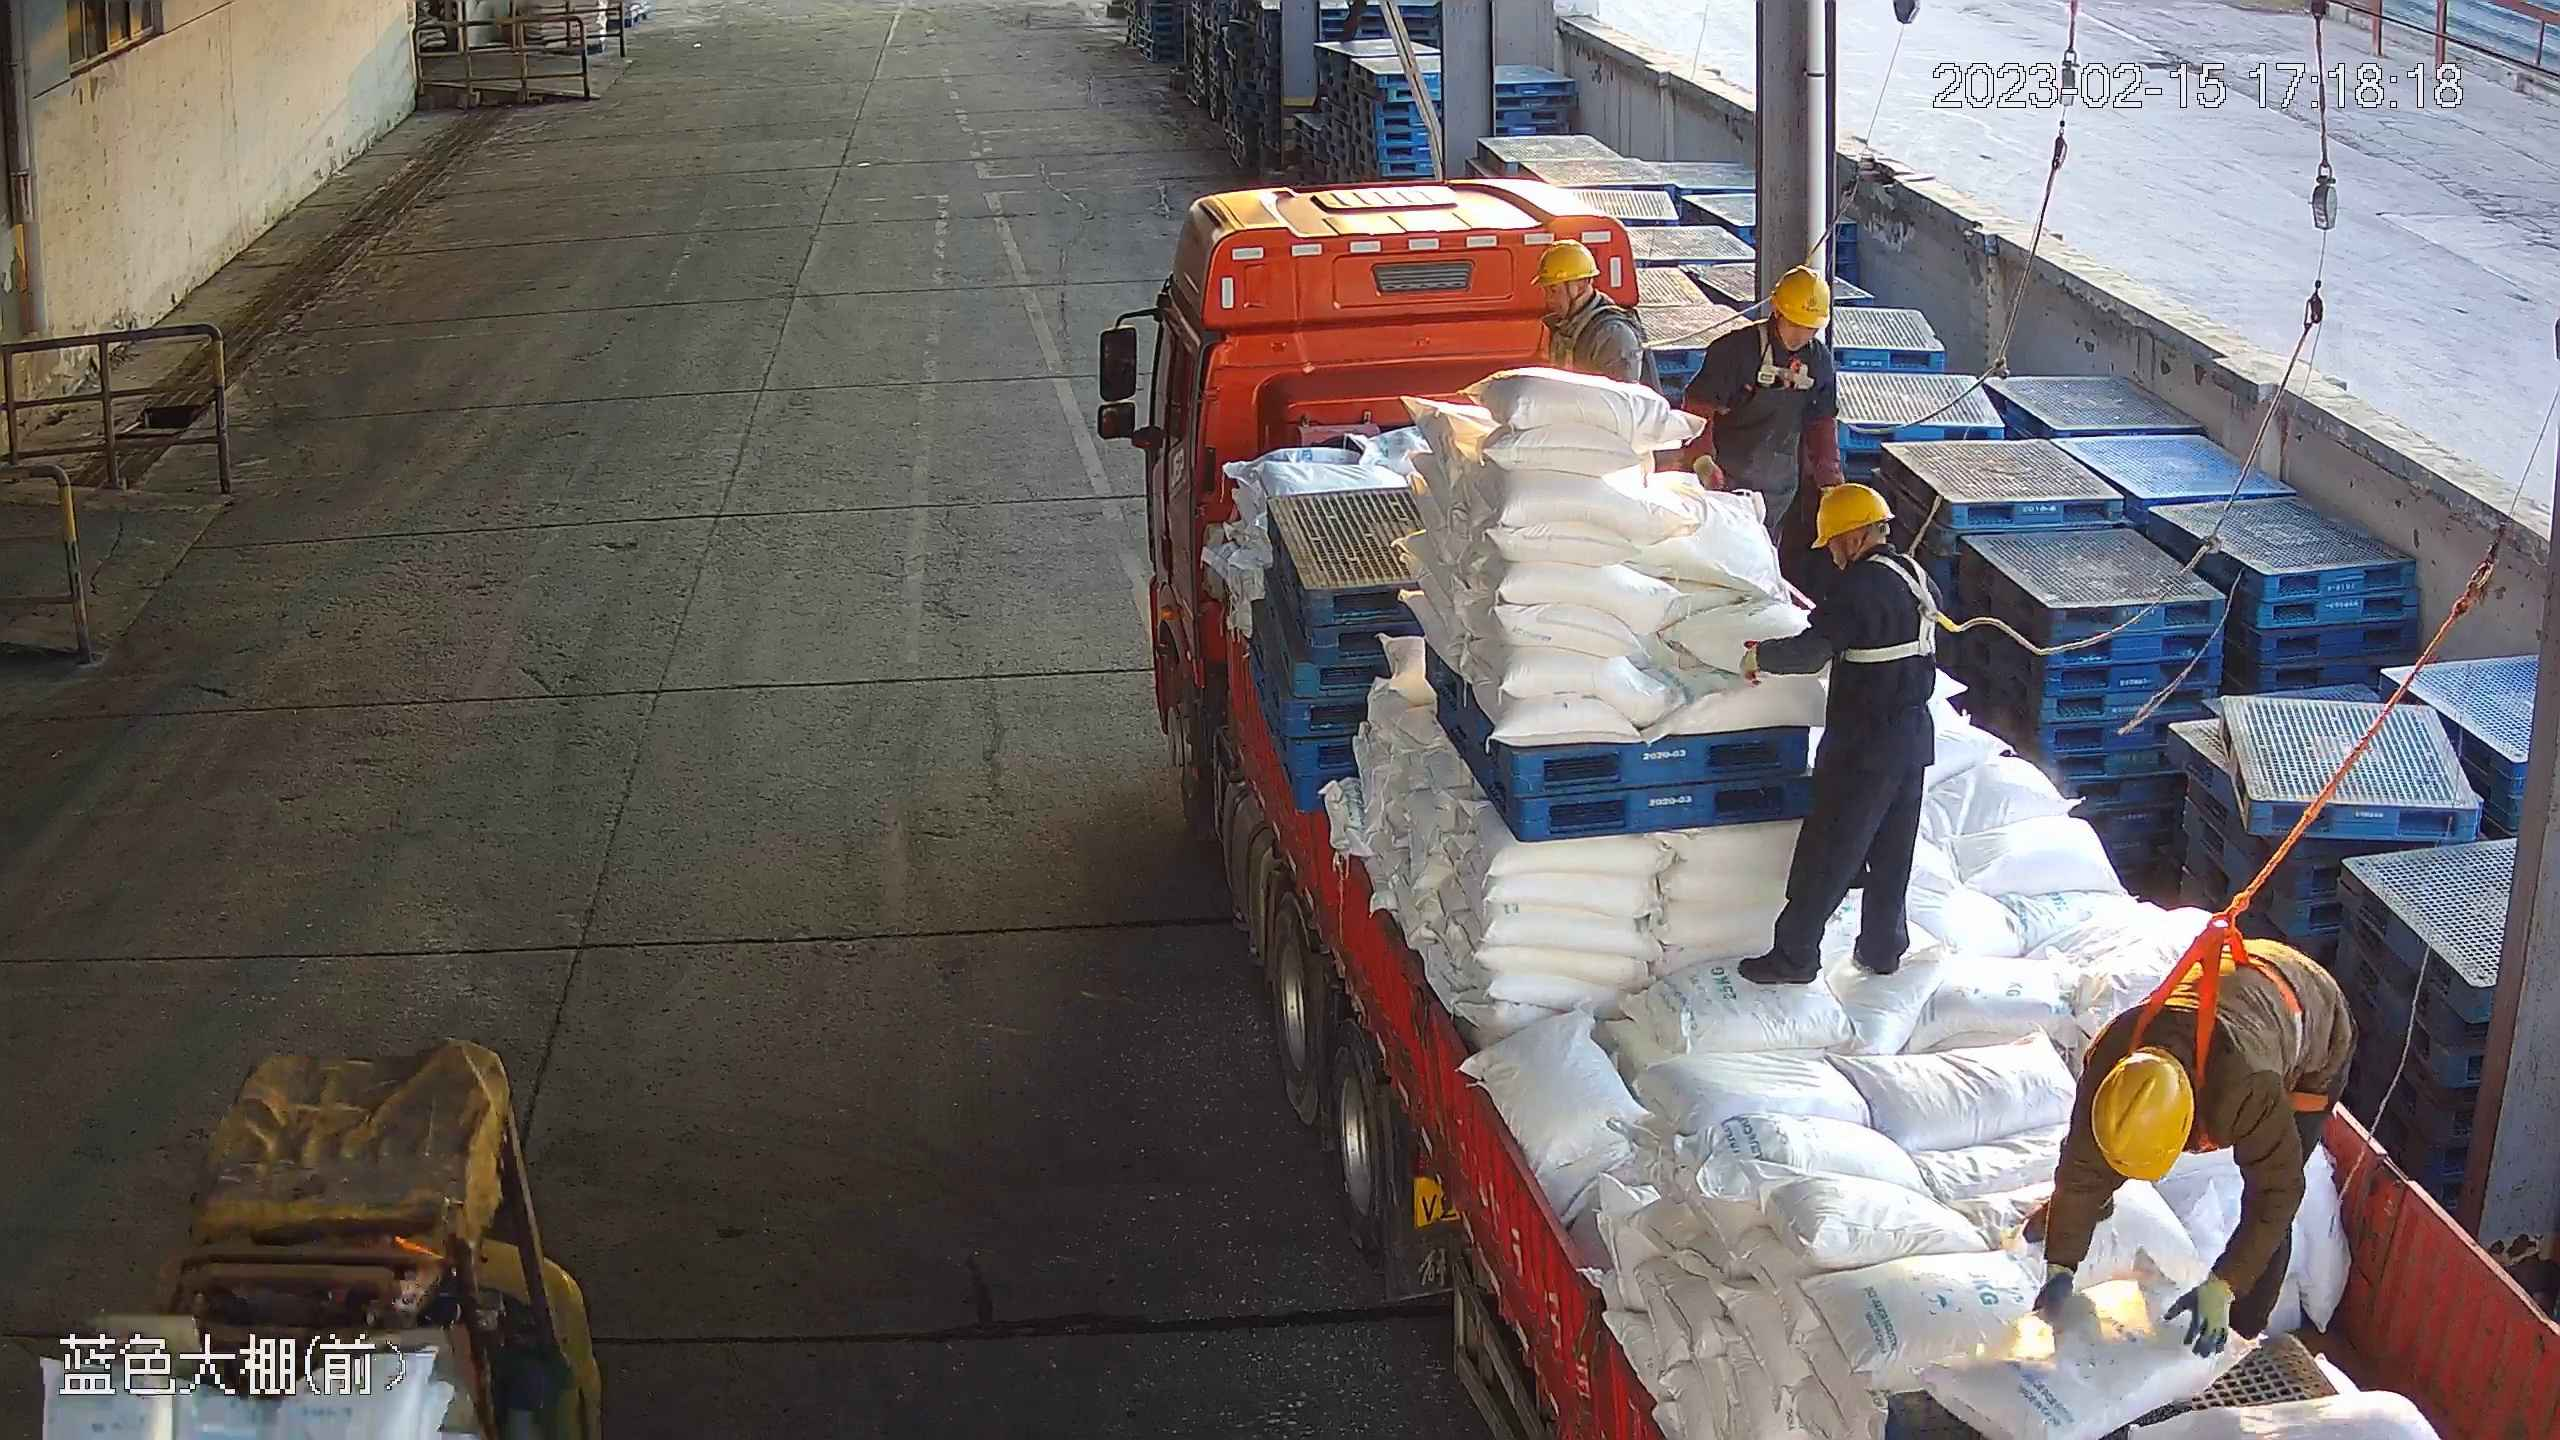belt: (2109, 912, 2305, 1040), (1846, 560, 1967, 662), (1541, 323, 1613, 376), (1746, 343, 1818, 388)
head: (2067, 1008, 2279, 1179), (1801, 479, 1932, 618), (1728, 264, 1844, 376), (1528, 236, 1639, 343)
helmet: (2088, 1048, 2193, 1188), (1809, 474, 1897, 548), (1769, 265, 1835, 330), (1528, 236, 1599, 283)
people: (2014, 927, 2360, 1350), (1741, 476, 1942, 988)
truck: (1086, 160, 2560, 1440)
